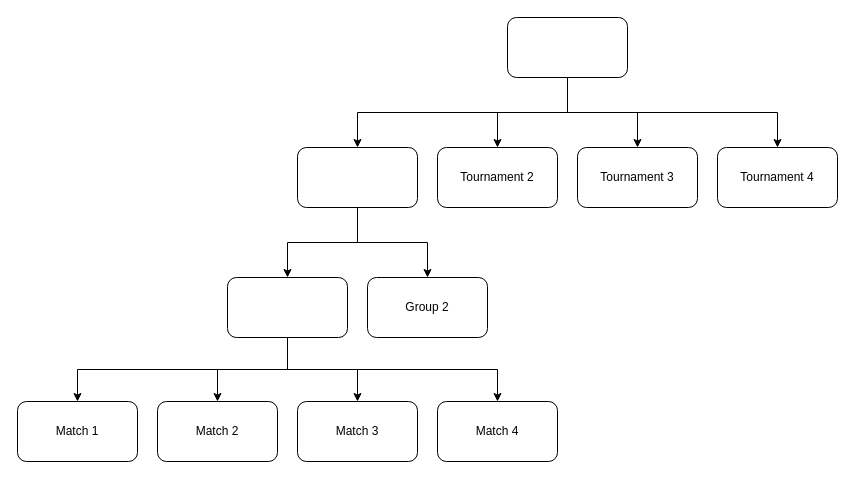
Some shapes in this 855 by 479 pixel diagram are drawn without their labels. The box of each missing label's shape, as (x1, y1, x2, y2) in pixels:
Group 1: (226, 276, 348, 338)
Season: (506, 16, 628, 78)
Tournament 1: (296, 146, 418, 208)
